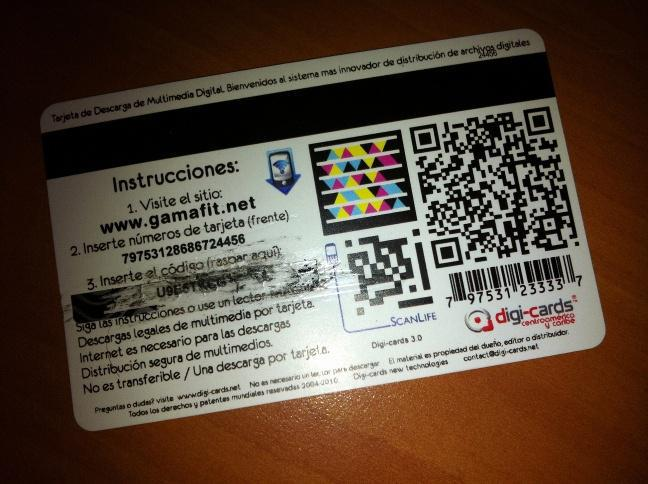Finder pattern: (427, 234, 464, 270), (520, 104, 556, 136), (408, 122, 442, 154)
